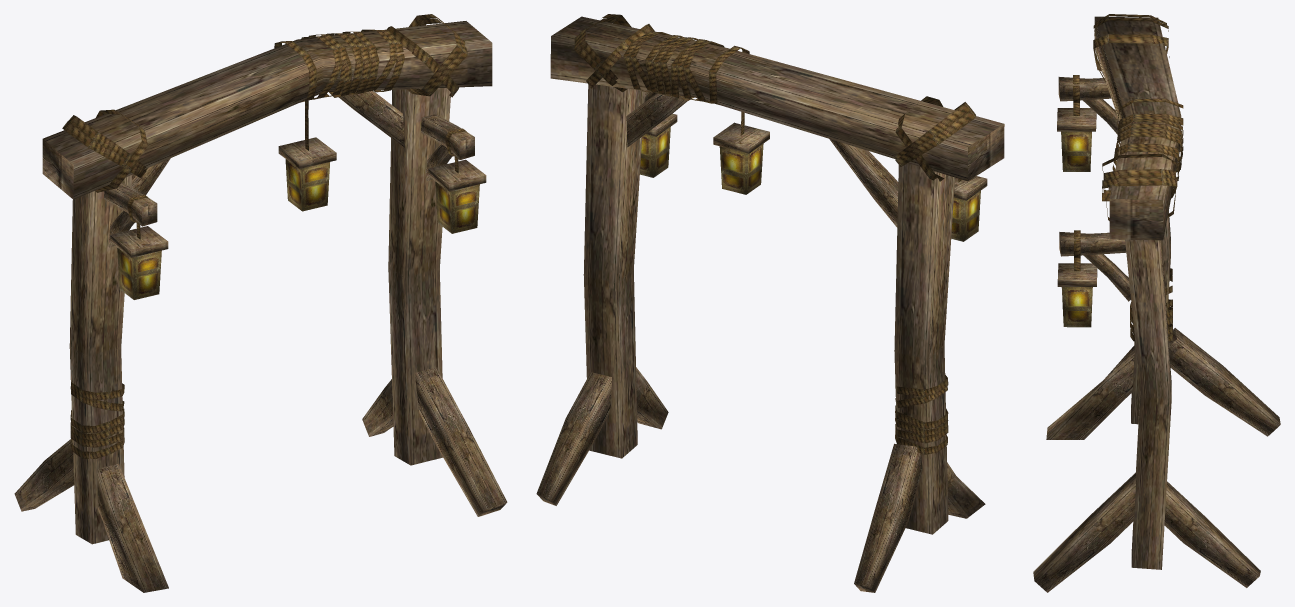
Rendered from S_Build_West064.FBX.
3 renders of one model, left to right at view 1: azimuth 30°, elevation 25°; view 2: azimuth 150°, elevation 25°; view 3: azimuth 270°, elevation 25°, orthographic. The views are drawn at different scales.
Visible parts, largest first — view 1: S_Build_West064; view 2: S_Build_West064; view 3: S_Build_West064.
Boxes of the visible parts, x1,y1,x2,y2 form: S_Build_West064: (14, 14, 507, 592); S_Build_West064: (536, 14, 1004, 592); S_Build_West064: (1033, 14, 1280, 592).
Size of the model in its own units: 380 by 204 by 388.
